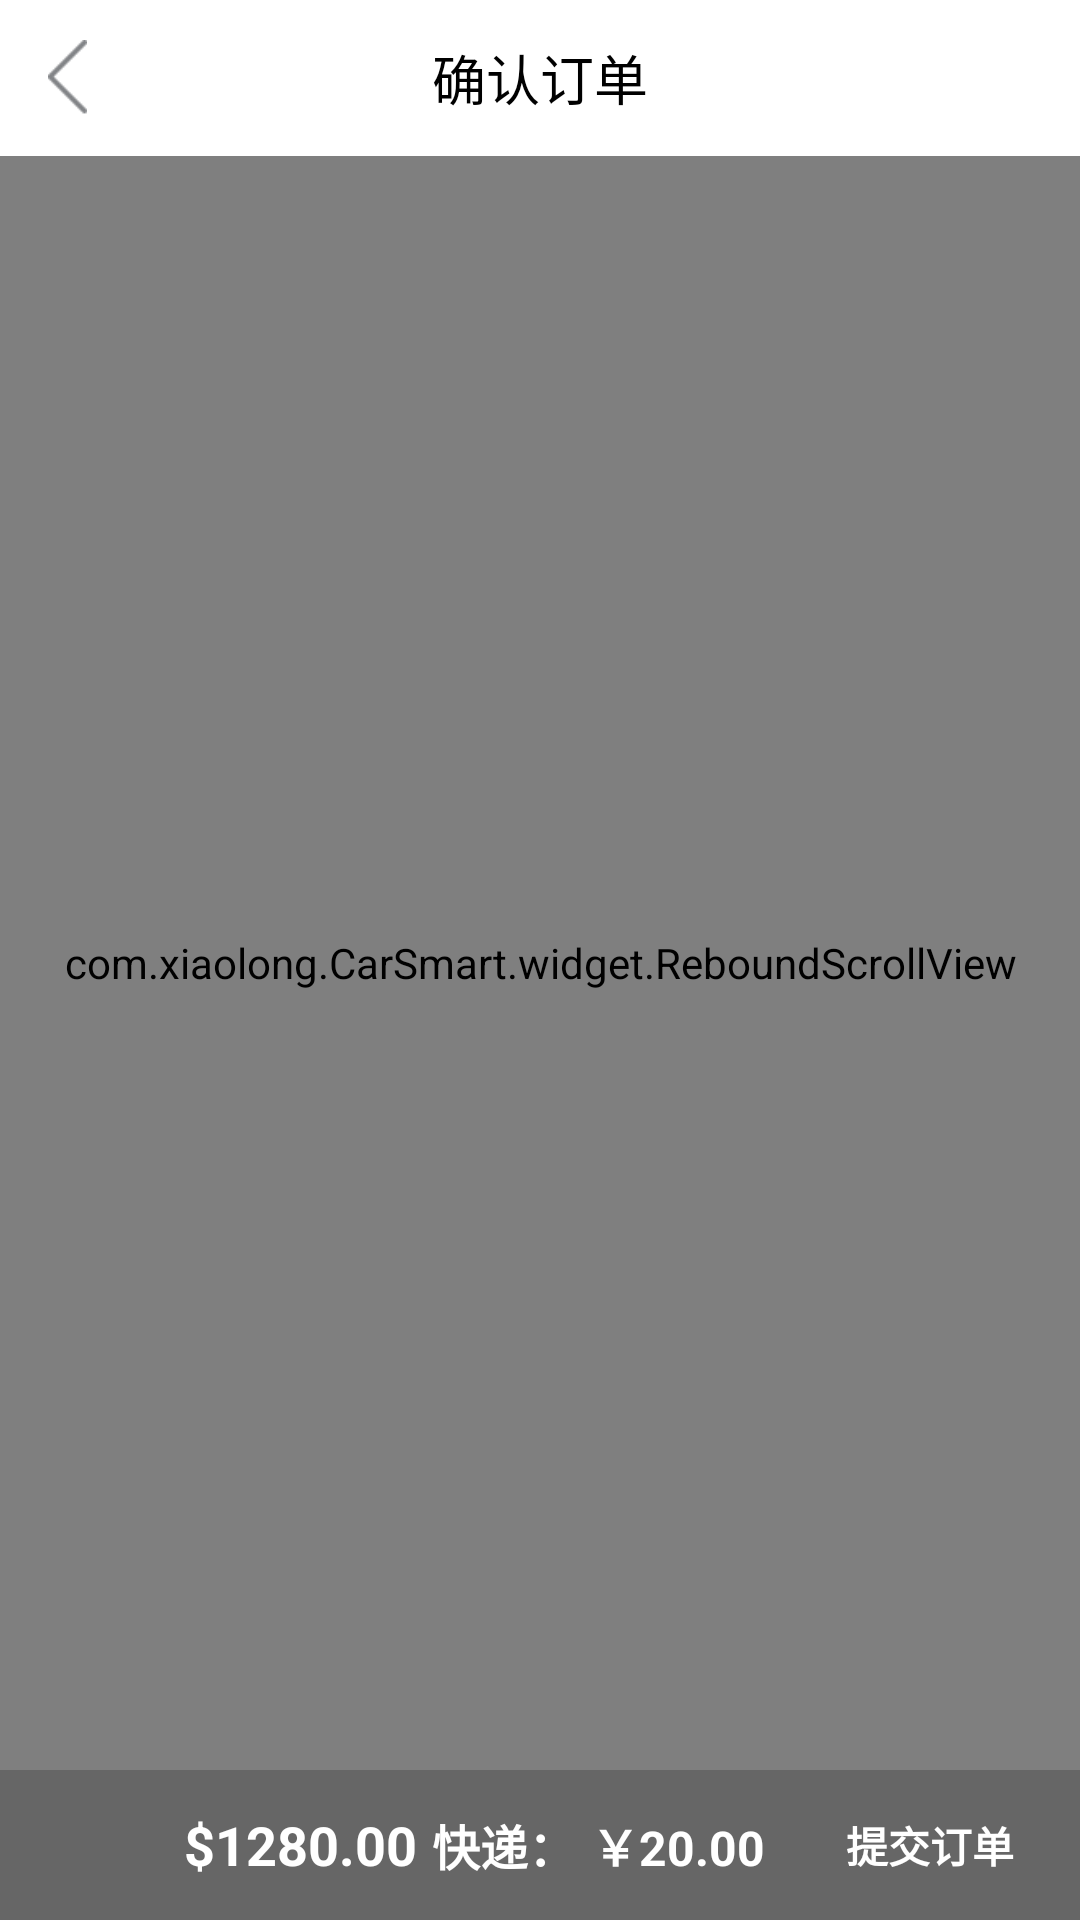

Point at icon controls on the screen. Image size 1080px x 1920px, points as (x=x, y=y).
back: (x=67, y=77)
